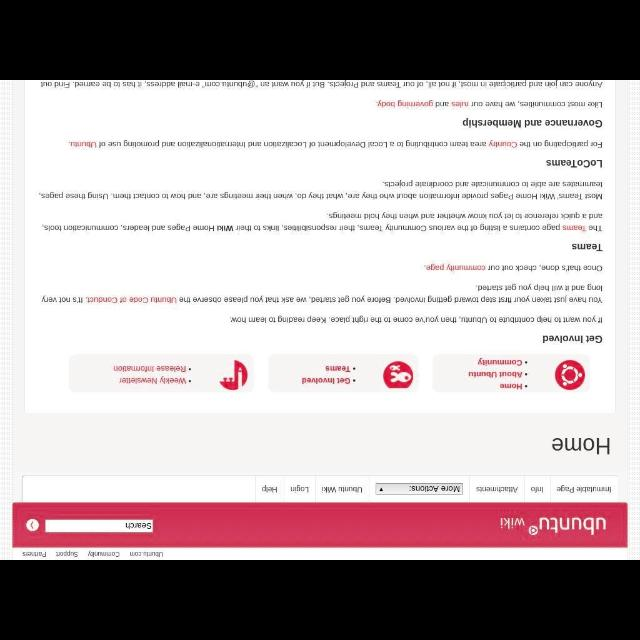button: (26, 520, 38, 530)
icon: (379, 487, 385, 493), (30, 522, 34, 528), (352, 366, 356, 372), (186, 368, 192, 372), (524, 384, 528, 388), (524, 372, 528, 376), (524, 361, 528, 365), (352, 379, 356, 383), (187, 379, 191, 383)
image: (554, 360, 586, 390), (218, 361, 248, 389), (382, 362, 413, 388)
input: (44, 520, 152, 532)
multitab: (24, 477, 616, 501)
spinner: (376, 484, 464, 494)
text: (42, 281, 602, 305), (38, 178, 604, 200), (41, 211, 603, 233), (68, 139, 602, 149), (39, 81, 604, 89), (228, 314, 604, 324), (374, 96, 604, 110), (462, 115, 602, 128), (423, 262, 603, 272), (538, 512, 608, 536), (553, 436, 611, 456), (116, 375, 186, 385), (542, 334, 602, 344), (547, 157, 603, 167), (558, 484, 612, 494), (408, 484, 460, 494), (301, 376, 349, 386), (113, 366, 187, 372), (320, 484, 364, 494), (478, 358, 522, 368), (467, 371, 521, 379), (476, 484, 518, 494), (498, 514, 526, 528), (572, 241, 602, 253), (88, 549, 122, 559), (129, 551, 163, 559), (126, 520, 152, 530), (324, 364, 350, 374), (499, 380, 523, 390), (260, 484, 280, 494), (55, 550, 79, 558), (22, 550, 46, 558), (290, 485, 310, 493), (532, 485, 544, 493)
toolbar: (13, 502, 627, 548)
